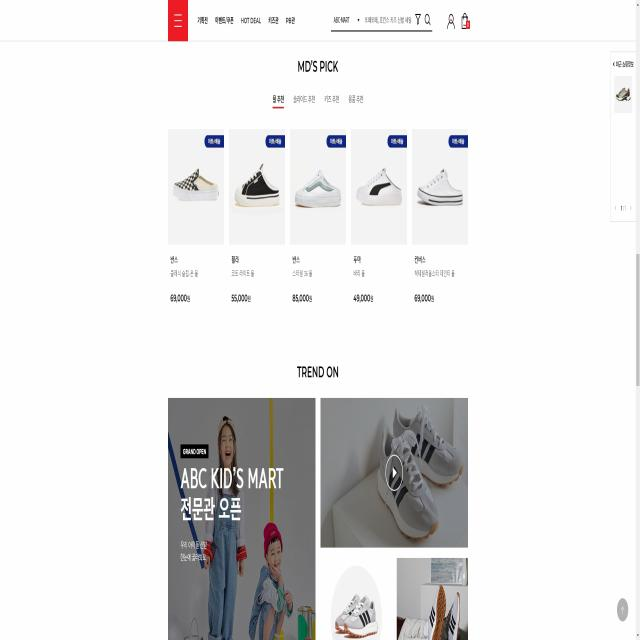menu-bar: (444, 7, 472, 32)
search: (328, 7, 433, 34)
tab-bar: (268, 86, 367, 110)
